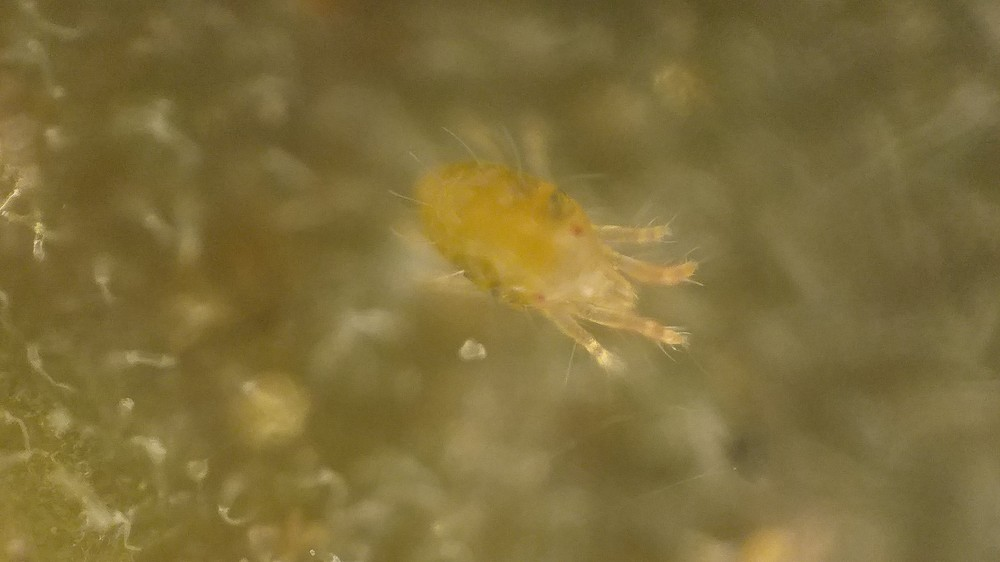Aracnido Rojo: (372, 115, 730, 403)
